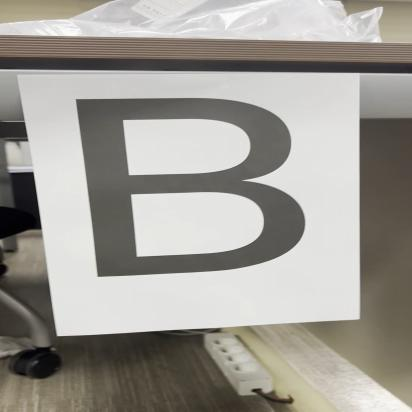seat: (50, 88, 350, 308)
